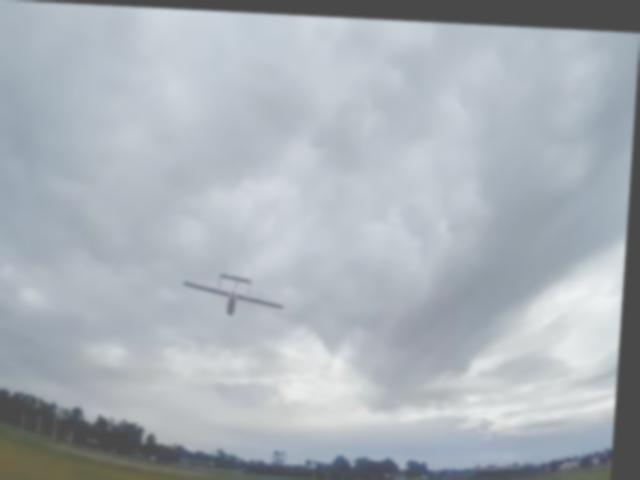uav: (186, 257, 291, 315)
